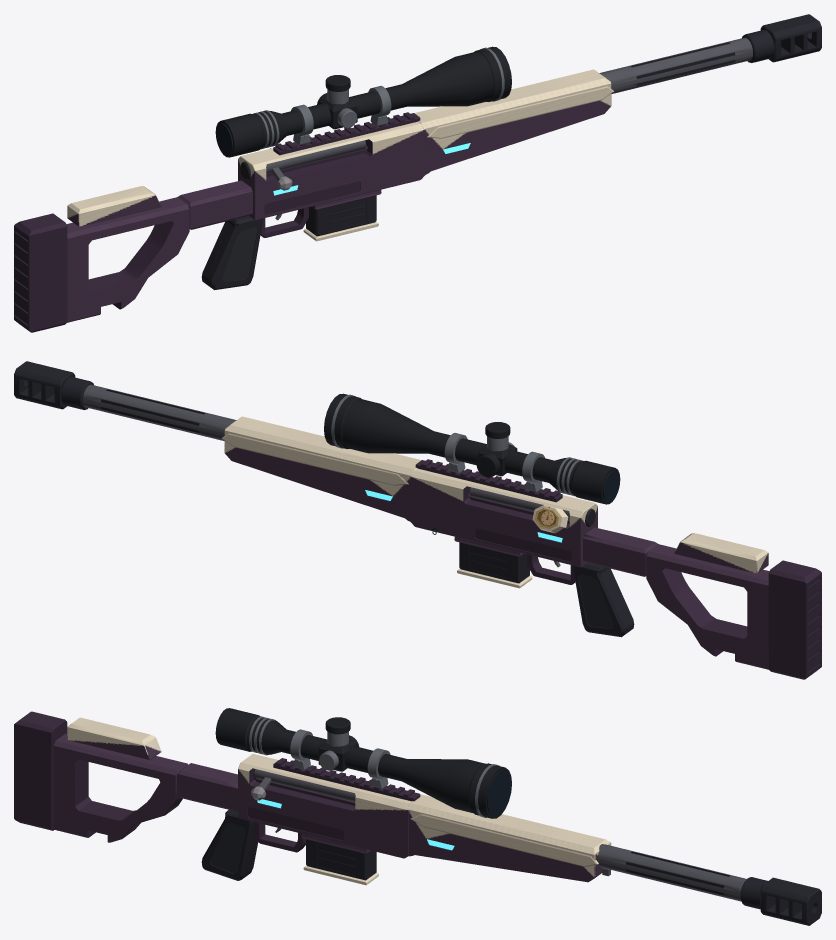
File: Operator_Sundial_v01.fbx
The picture shows the model from 3 angles, top to bottom: view 1: azimuth 30°, elevation 25°; view 2: azimuth 150°, elevation 25°; view 3: azimuth 330°, elevation 25°; orthographic projection.
Visible parts, largest first — view 1: Operator_Stock, Operator_Receiver, Operator_Scope, Operator_Handguard, Operator_Barrel, Operator_Grip, Sundial_ForeSpine_R, Operator_Magazine, Operator_Bolt; view 2: Operator_Stock, Operator_Receiver, Operator_Scope, Operator_Handguard, Operator_Barrel, Operator_Grip, Sundial_ForeSpine_L, Operator_Magazine, Operator_Bolt; view 3: Operator_Stock, Operator_Receiver, Operator_Scope, Operator_Handguard, Operator_Barrel, Operator_Grip, Sundial_ForeSpine_R, Operator_Magazine, Operator_Bolt, Operator_ScopeLens.
Boxes of the visible parts, x1,y1,x2,y2 form: Operator_Stock: (14,180,252,332); Operator_Receiver: (238,112,425,237); Operator_Scope: (215,46,511,157); Operator_Handguard: (414,69,611,174); Operator_Barrel: (599,14,821,93); Operator_Grip: (201,215,262,290); Sundial_ForeSpine_R: (427,86,614,138); Operator_Magazine: (303,195,378,241); Operator_Bolt: (240,140,365,190); Operator_Stock: (583,527,821,679); Operator_Receiver: (410,459,597,584); Operator_Scope: (324,393,620,504); Operator_Handguard: (224,416,421,521); Operator_Barrel: (14,361,236,440); Operator_Grip: (573,562,634,637); Sundial_ForeSpine_L: (221,433,408,485); Operator_Magazine: (457,542,532,588); Operator_Bolt: (470,487,595,526); Operator_Stock: (14,711,237,842); Operator_Receiver: (238,754,420,858); Operator_Scope: (215,708,511,818); Operator_Handguard: (407,794,611,882); Operator_Barrel: (597,844,821,925); Operator_Grip: (201,809,258,880); Sundial_ForeSpine_R: (410,814,598,866); Operator_Magazine: (303,839,378,885); Operator_Bolt: (251,768,355,802); Operator_ScopeLens: (487,770,511,816).
Size of the model in its own units: 484 by 104 by 31.59.
17 materials, 13 textured.
